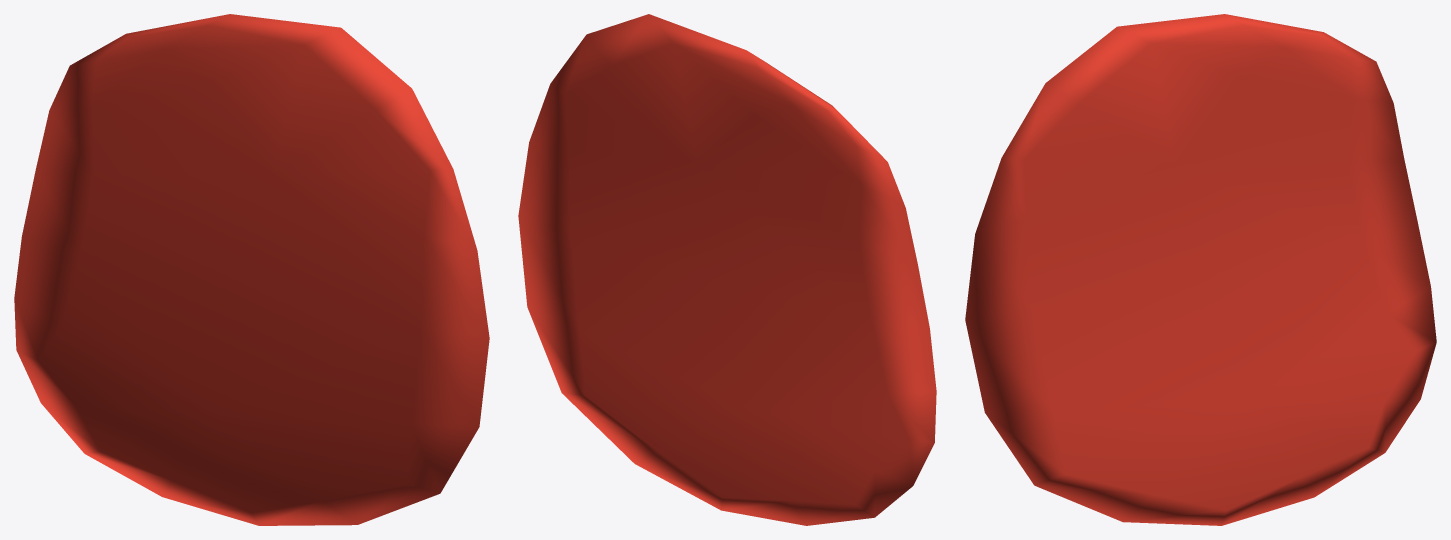
File: Zygomaticus_major_muscle_on_zygomtic_bone.r_Generated_Mesh_From.glb
3 renders of one model, left to right at view 1: azimuth 30°, elevation 25°; view 2: azimuth 210°, elevation 25°; view 3: azimuth 270°, elevation 25°, orthographic. The views are drawn at different scales.
Parts seen in each view (by area): view 1: Zygomaticus_major_muscle_on_zygomtic_bone.r_Generated_Mesh_F; view 2: Zygomaticus_major_muscle_on_zygomtic_bone.r_Generated_Mesh_F; view 3: Zygomaticus_major_muscle_on_zygomtic_bone.r_Generated_Mesh_F.
Boxes of the visible parts, left/top/right/bottom form: Zygomaticus_major_muscle_on_zygomtic_bone.r_Generated_Mesh_F: left=14, top=14, right=489, bottom=525; Zygomaticus_major_muscle_on_zygomtic_bone.r_Generated_Mesh_F: left=518, top=14, right=936, bottom=525; Zygomaticus_major_muscle_on_zygomtic_bone.r_Generated_Mesh_F: left=965, top=14, right=1436, bottom=525.
Size of the model in its own units: 0.00514 by 0.0112 by 0.00931.
